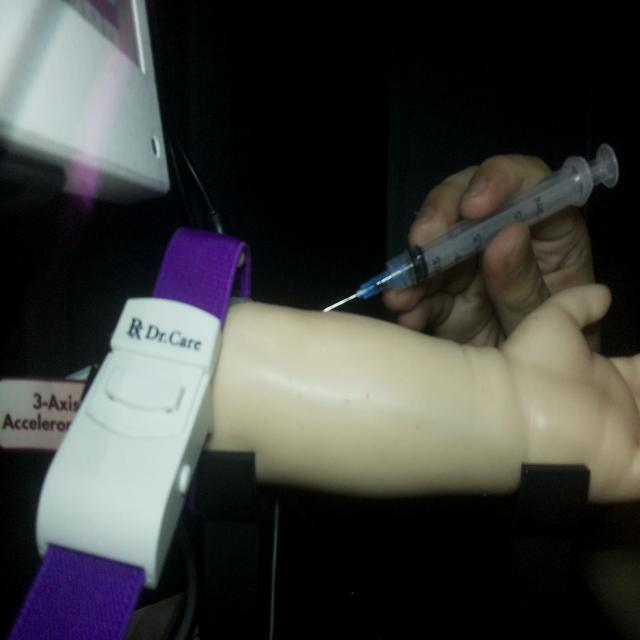18 degrees: (321, 140, 620, 315)
